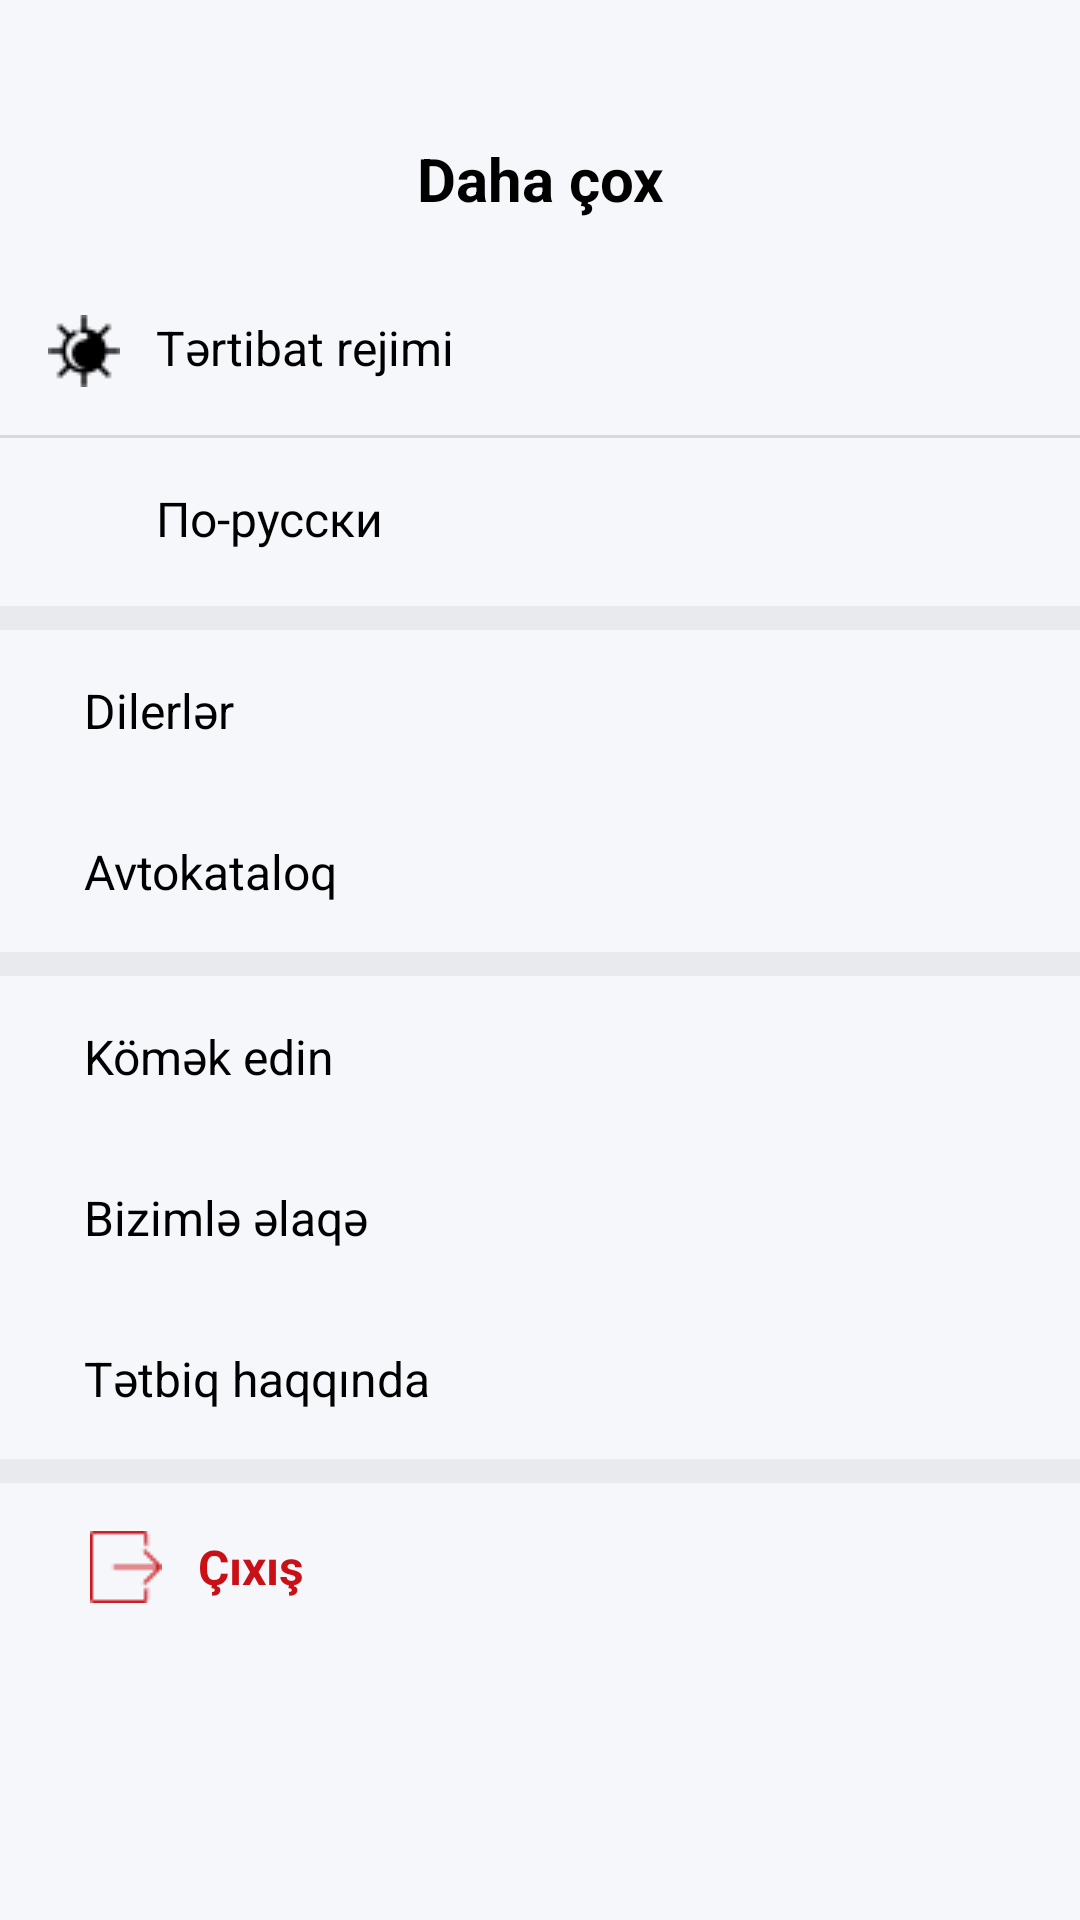

Named icons in this screenshot (1080w x 1920h) and their centers, point (x, y):
sun: point (84, 351)
